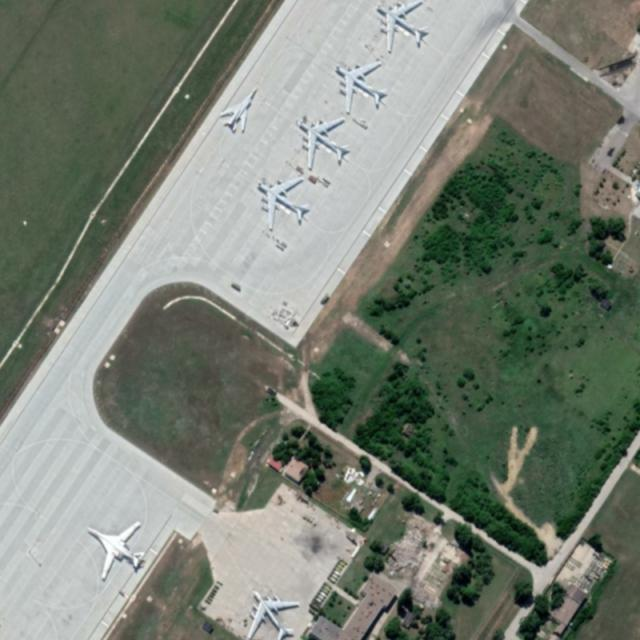fighter jet: (80, 524, 148, 576), (293, 107, 345, 167), (236, 587, 293, 640), (254, 176, 312, 228), (333, 64, 388, 112), (378, 4, 438, 48), (221, 87, 263, 135)
